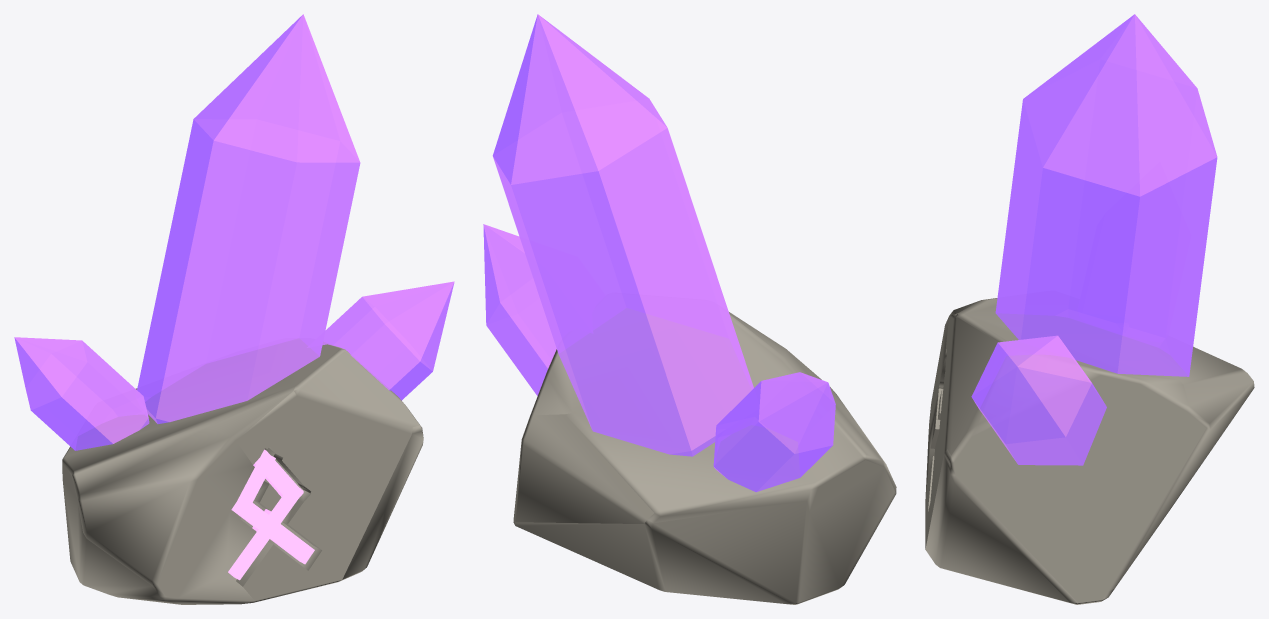
File: item_rune_shard.glb
3 renders of one model, left to right at view 1: azimuth 30°, elevation 25°; view 2: azimuth 150°, elevation 25°; view 3: azimuth 270°, elevation 25°, orthographic. The views are drawn at different scales.
Visible parts, largest first — view 1: RuneShard; view 2: RuneShard; view 3: RuneShard.
Boxes of the visible parts, left/top/right/bottom form: RuneShard: left=14, top=14, right=454, bottom=604; RuneShard: left=483, top=14, right=896, bottom=604; RuneShard: left=925, top=14, right=1254, bottom=604.
Size of the model in its own units: 0.3148 by 0.3892 by 0.2041.
